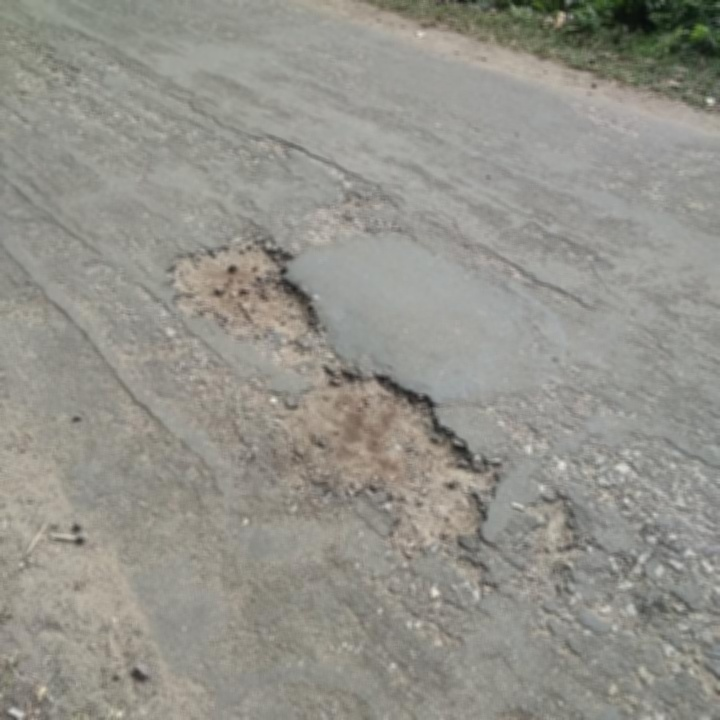pothole: (269, 366, 497, 545), (158, 229, 330, 351), (521, 497, 578, 557)
